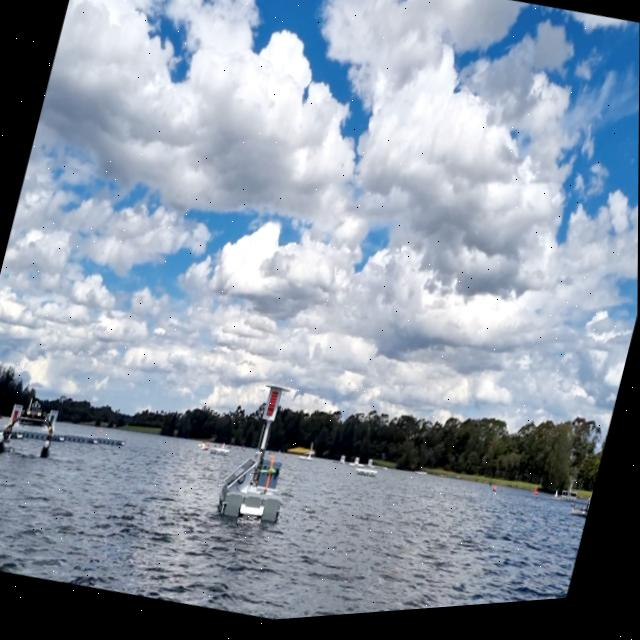led: (264, 391, 281, 423)
